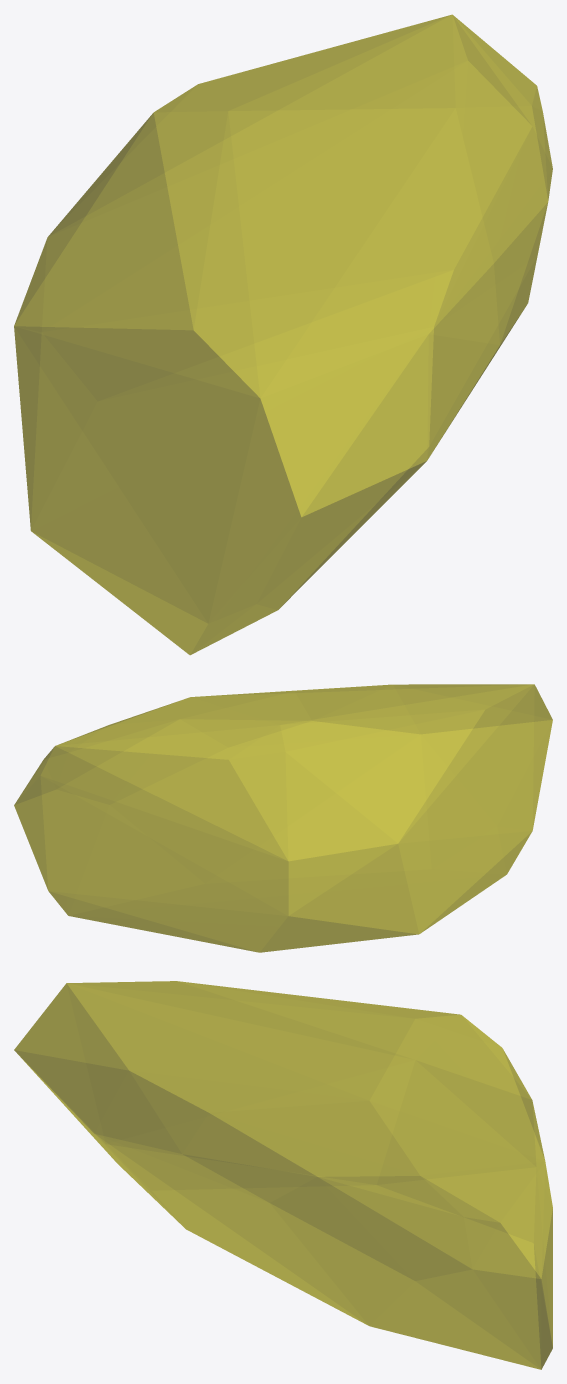
3 views of the same model, one above another, from view 1: azimuth 30°, elevation 25°; view 2: azimuth 150°, elevation 25°; view 3: azimuth 270°, elevation 25° (orthographic). The views are drawn at different scales.
Visible parts, largest first — view 1: Shape_IndexedFaceSet.027_Shape_IndexedFaceSet.18003; view 2: Shape_IndexedFaceSet.027_Shape_IndexedFaceSet.18003; view 3: Shape_IndexedFaceSet.027_Shape_IndexedFaceSet.18003.
Part boxes in pixels (x1,y1,x2,y2): Shape_IndexedFaceSet.027_Shape_IndexedFaceSet.18003: [14, 14, 552, 655]; Shape_IndexedFaceSet.027_Shape_IndexedFaceSet.18003: [14, 684, 552, 952]; Shape_IndexedFaceSet.027_Shape_IndexedFaceSet.18003: [14, 981, 552, 1369].
Bounding box in the file's own units: 0.3419 × 0.1823 × 0.3571.
